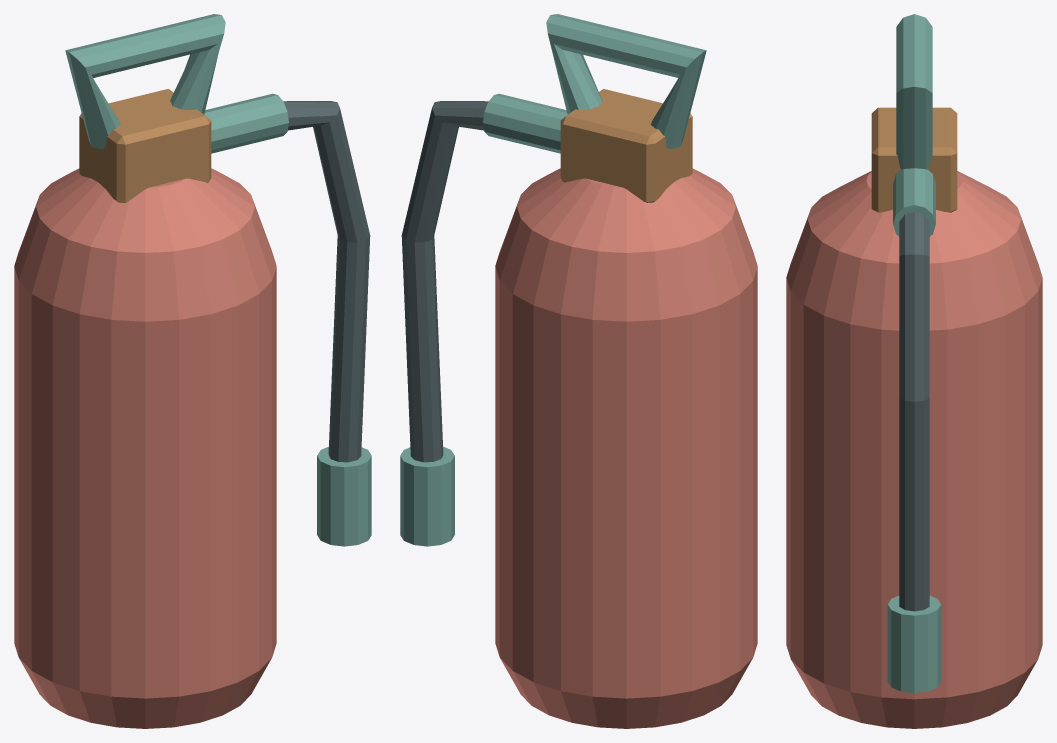
3 views of the same model, side by side, from view 1: azimuth 30°, elevation 25°; view 2: azimuth 150°, elevation 25°; view 3: azimuth 270°, elevation 25° (orthographic). The views are drawn at different scales.
Parts seen in each view (by area): view 1: firefighting-extinguisher-01; view 2: firefighting-extinguisher-01; view 3: firefighting-extinguisher-01.
Boxes of the visible parts, box(x1,y1,x2,y2) form: firefighting-extinguisher-01: box(14, 14, 371, 728); firefighting-extinguisher-01: box(400, 14, 757, 728); firefighting-extinguisher-01: box(786, 14, 1042, 728).
Size of the model in its own units: 0.355 by 0.6546 by 0.24.
